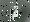person: (8, 7, 14, 20), (12, 7, 18, 18)
